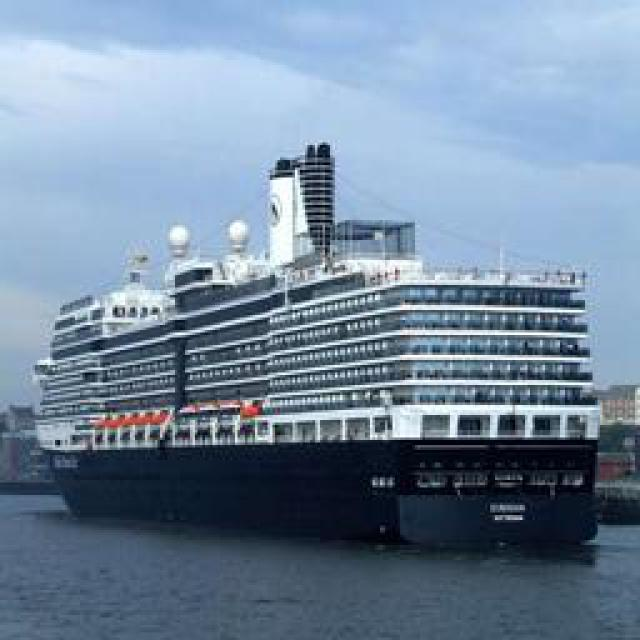Ship: (39, 124, 599, 539)
